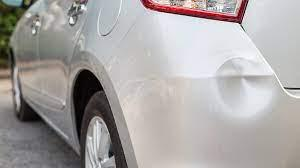rear-bumper-dent: (114, 8, 282, 167)
